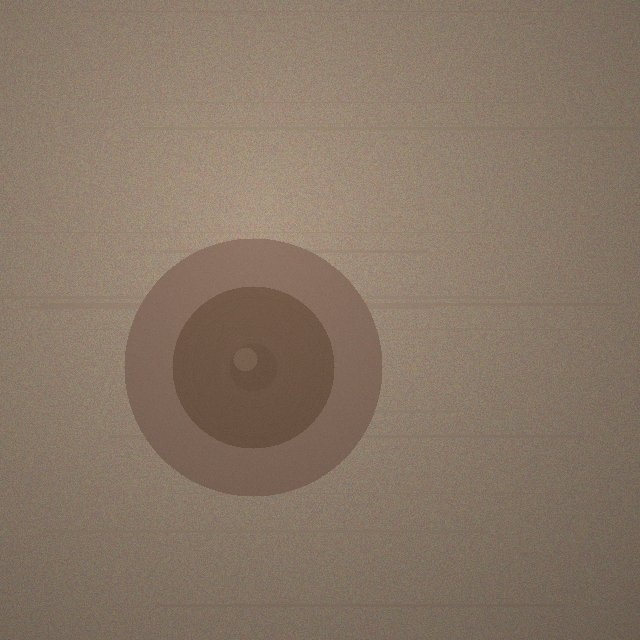good: (124, 238, 382, 496)
